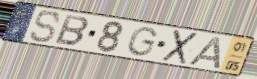8: (95, 20, 125, 54)
A: (186, 35, 222, 71)
B: (52, 13, 91, 48)
G: (124, 25, 160, 58)
S: (28, 10, 62, 44)
X: (159, 29, 201, 66)
